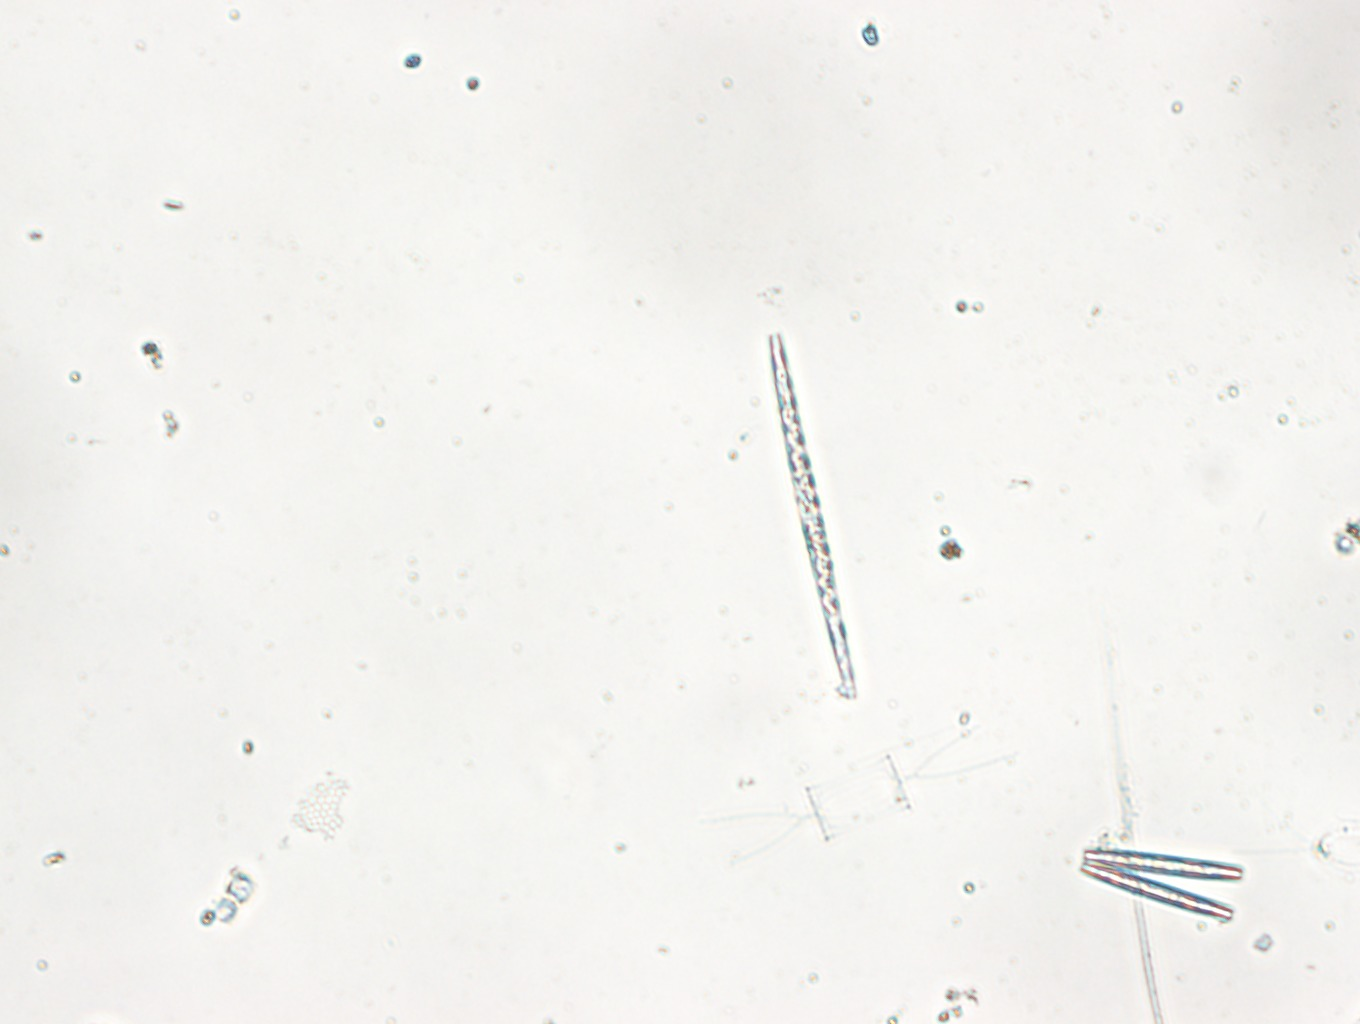thalassionema frauenfeldii: (759, 330, 861, 700), (1068, 837, 1251, 933)
